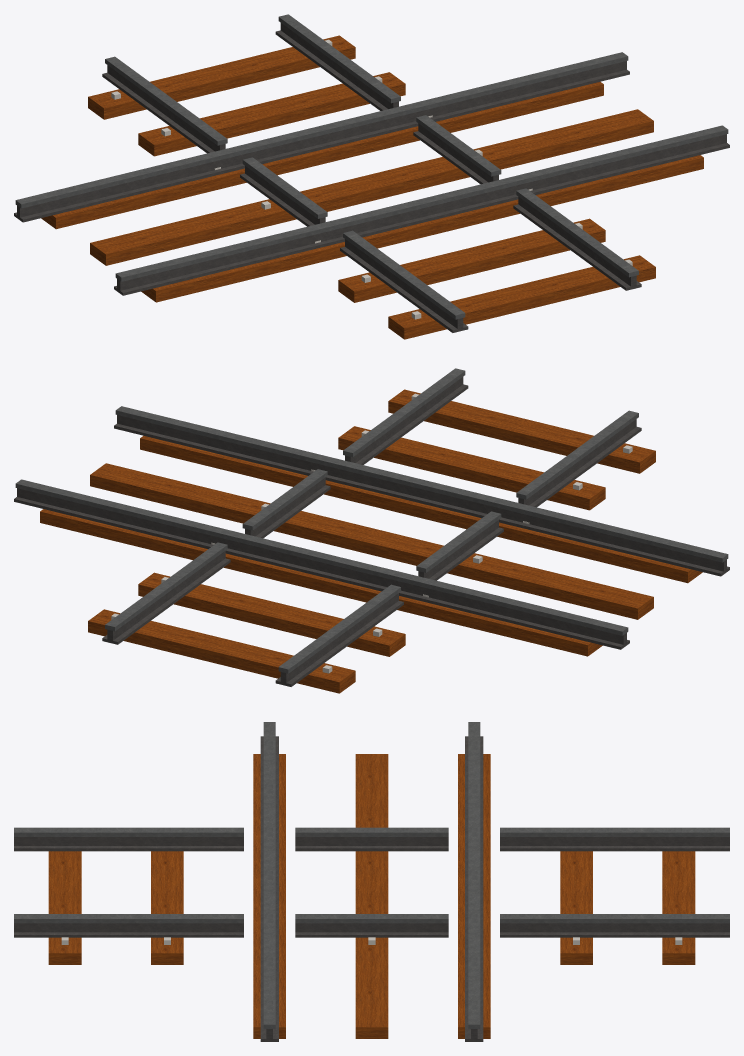
File: rail_crossing.gltf
3 views of the same model, one above another, from view 1: azimuth 30°, elevation 25°; view 2: azimuth 150°, elevation 25°; view 3: azimuth 270°, elevation 25° (orthographic). The views are drawn at different scales.
Size of the model in its own units: 7 by 0.3125 by 7.
Materials: 4 (3 with a texture image).
